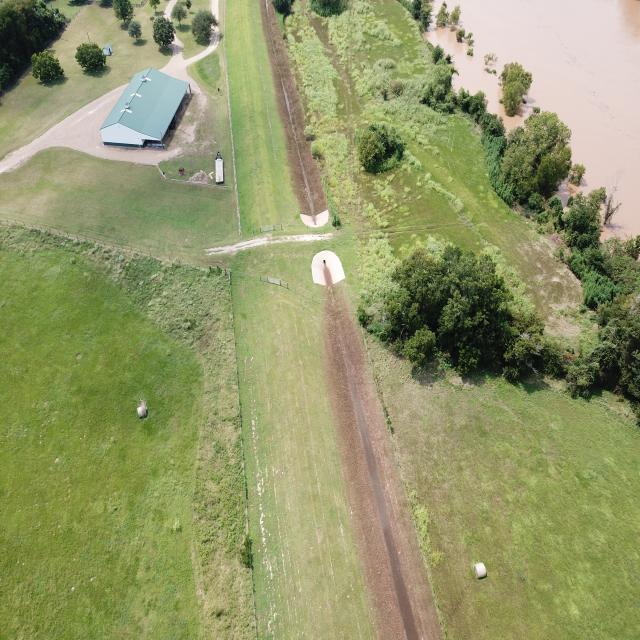fire: (425, 0, 640, 238)
